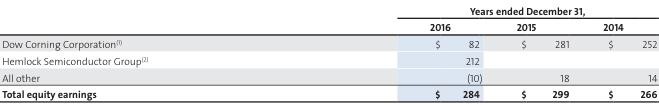table: (1, 1, 656, 101)
table column: (1, 1, 288, 101), (288, 1, 498, 101), (498, 1, 585, 101), (585, 1, 656, 101)
table column header: (1, 1, 656, 34)
table row: (1, 1, 656, 18), (1, 34, 656, 51), (1, 51, 656, 68), (1, 84, 656, 101), (1, 18, 656, 34), (1, 68, 656, 84)
table spanning cell: (288, 1, 656, 18)
